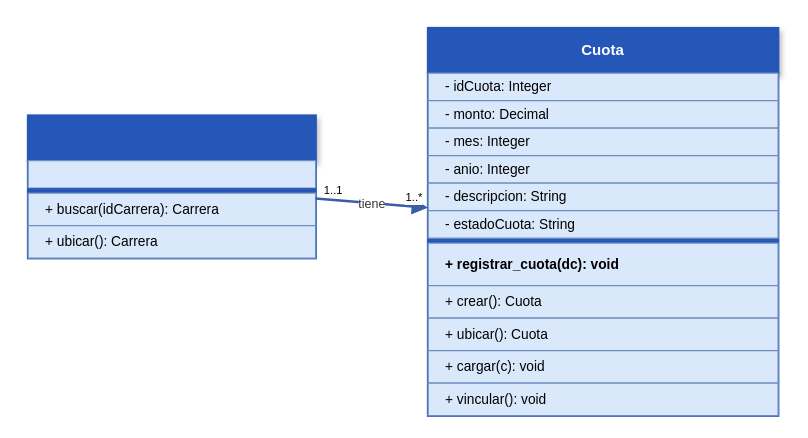
Some shapes in this 808 by 438 pixel diagram are drawn without their labels. The shapes that lost their labels are listed below. From the top down, each one's centre as x and y in pixels, then its label:
At point (172, 139): "Carrera".
At point (171, 173): "- idCarrera: Integer".
